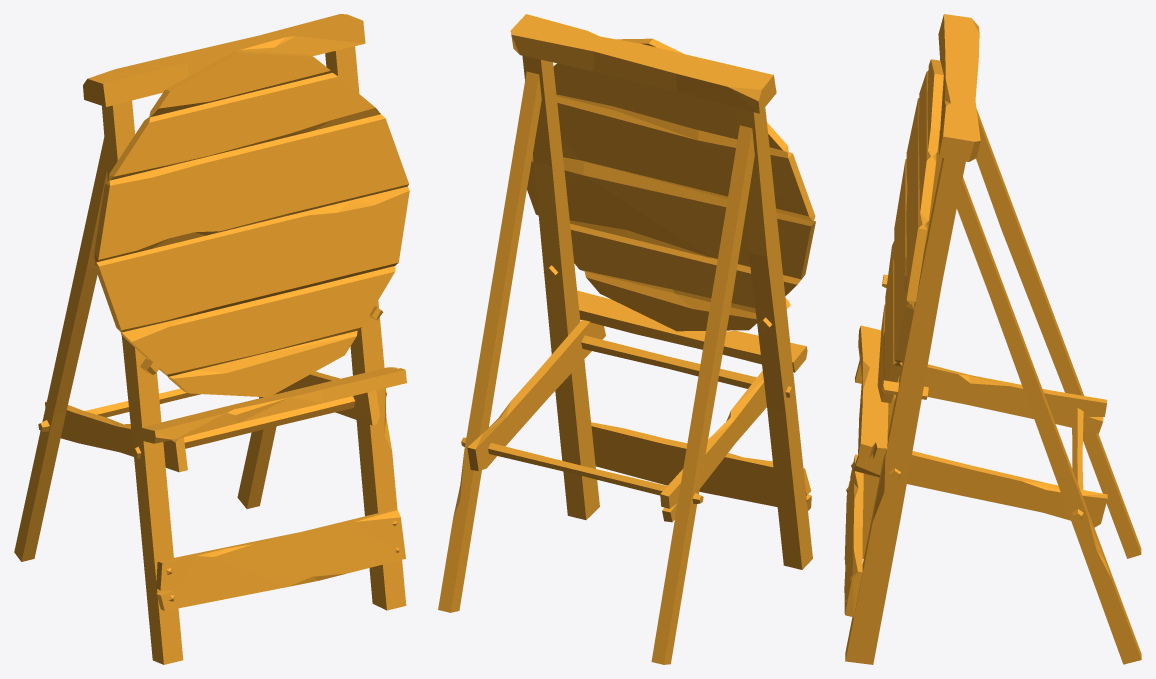
File: SM_Training_Target_Wooden_Big_Fantasy.fbx
3 renders of one model, left to right at view 1: azimuth 30°, elevation 25°; view 2: azimuth 150°, elevation 25°; view 3: azimuth 270°, elevation 25°, orthographic. The views are drawn at different scales.
Visible parts, largest first — view 1: training-target-wooden-big-fantasy; view 2: training-target-wooden-big-fantasy; view 3: training-target-wooden-big-fantasy.
Part boxes in pixels (x1,y1,x2,y2): training-target-wooden-big-fantasy: (14,14,409,664); training-target-wooden-big-fantasy: (438,14,815,664); training-target-wooden-big-fantasy: (844,14,1141,664).
Bounding box in the file's own units: 1.01 × 1.72 × 0.8639.
